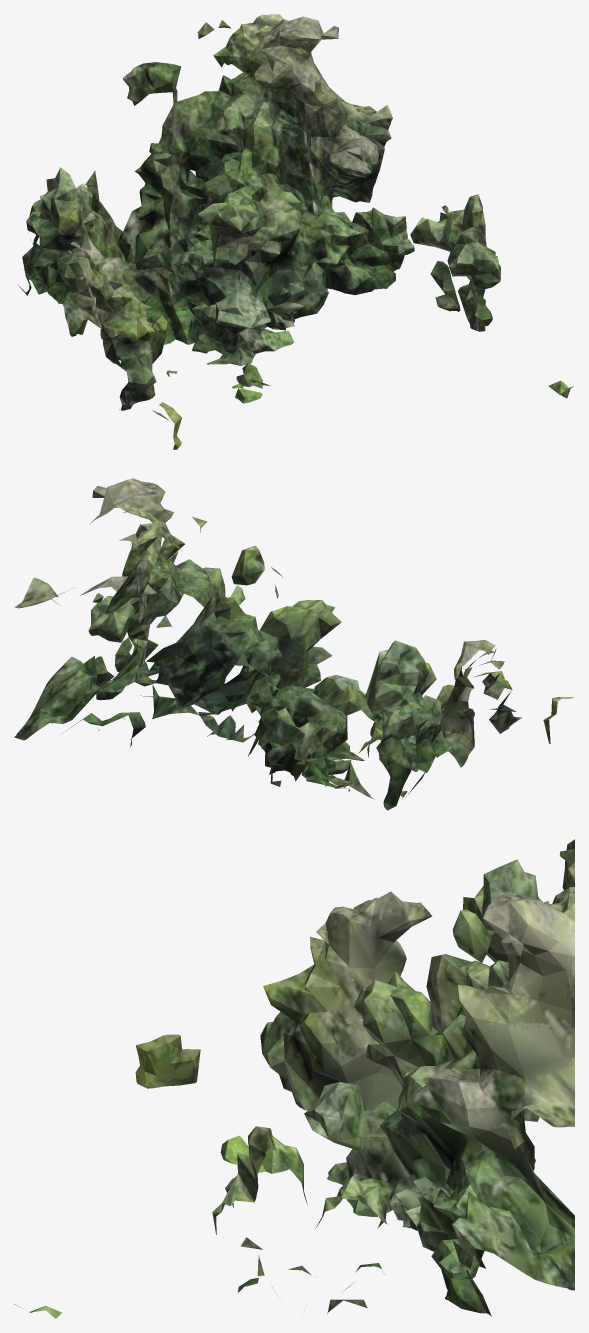
The picture shows the model from 3 angles, top to bottom: view 1: azimuth 30°, elevation 25°; view 2: azimuth 150°, elevation 25°; view 3: azimuth 270°, elevation 25°; orthographic projection. The views are drawn at different scales.
Bounding box in the file's own units: 52.22 × 37.17 × 52.22.
Materials: 4 (4 with a texture image).
